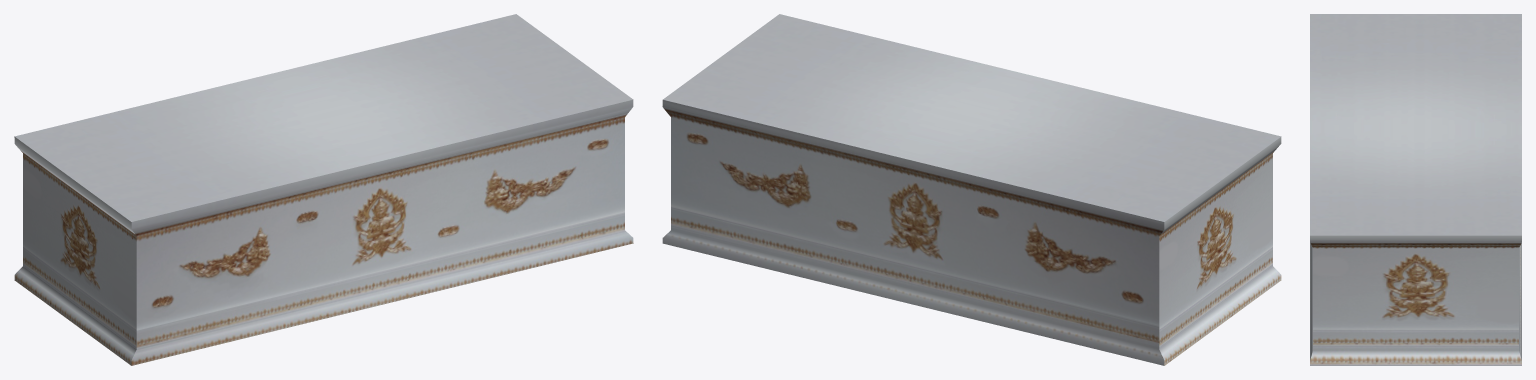
File: Coffin_Model_test.fbx
3 renders of one model, left to right at view 1: azimuth 30°, elevation 25°; view 2: azimuth 150°, elevation 25°; view 3: azimuth 270°, elevation 25°, orthographic. The views are drawn at different scales.
Visible parts, largest first — view 1: pCube1; view 2: pCube1; view 3: pCube1.
Part boxes in pixels (<box>): pCube1: <box>14,14,633,365</box>; pCube1: <box>662,14,1281,365</box>; pCube1: <box>1310,14,1521,365</box>.
Bounding box in the file's own units: 14.16 × 3.88 × 5.72.
